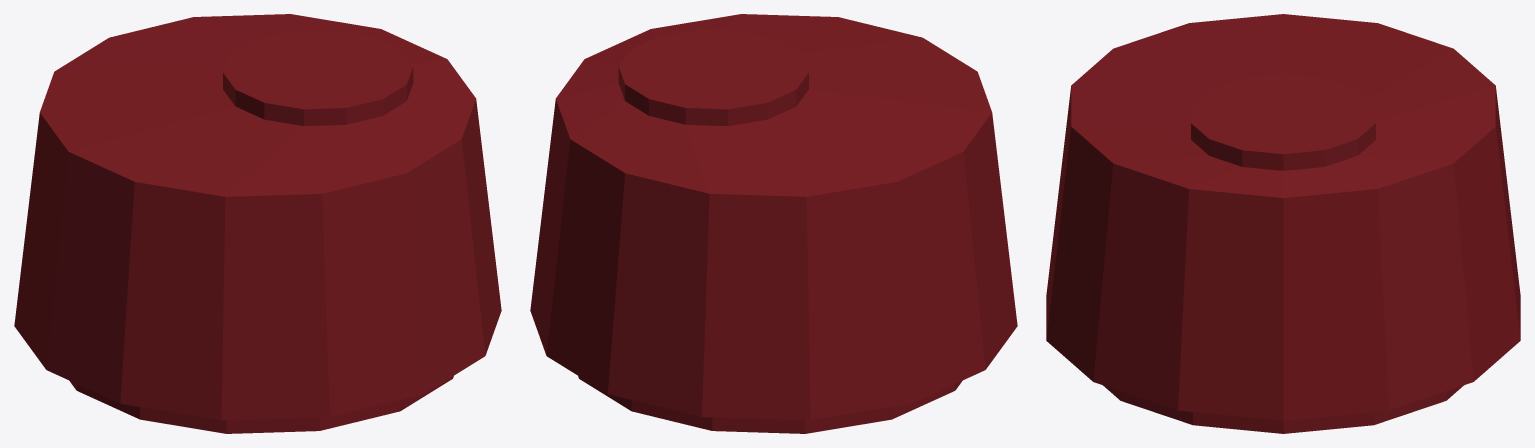
The model's file is ENEMY TANK HEAD.fbx.
The picture shows the model from 3 angles, left to right: view 1: azimuth 30°, elevation 25°; view 2: azimuth 150°, elevation 25°; view 3: azimuth 270°, elevation 25°; orthographic projection.
Visible parts, largest first — view 1: Cylinder; view 2: Cylinder; view 3: Cylinder.
Boxes of the visible parts, box(x1,y1,x2,y2) form: Cylinder: box(14, 14, 501, 433); Cylinder: box(530, 14, 1017, 433); Cylinder: box(1046, 14, 1520, 433).
Size of the model in its own units: 200 by 118 by 195.
